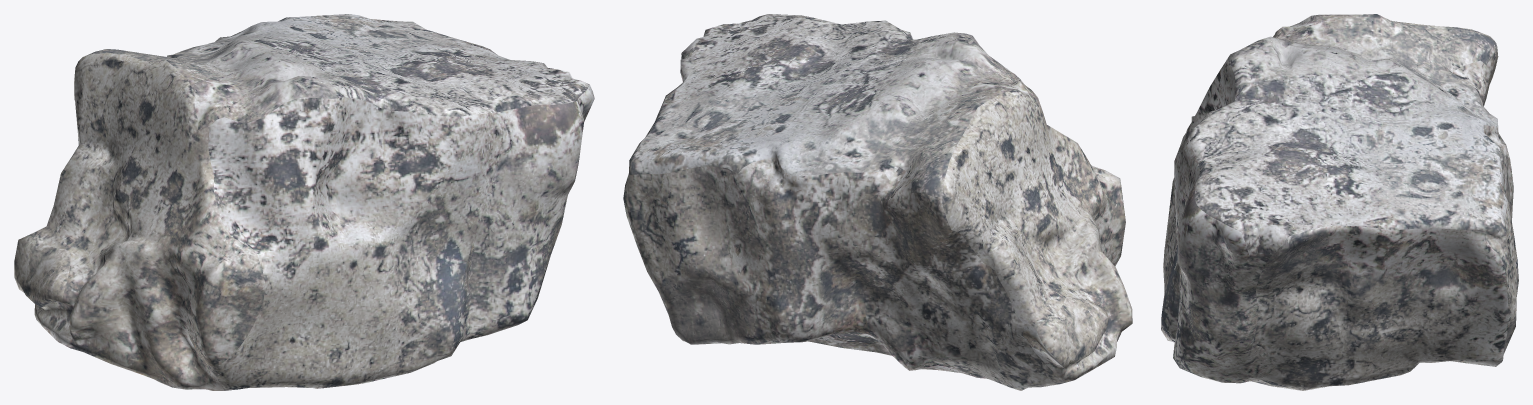
Rendered from SM_Small_Rock_A.fbx.
3 renders of one model, left to right at view 1: azimuth 30°, elevation 25°; view 2: azimuth 150°, elevation 25°; view 3: azimuth 270°, elevation 25°, orthographic. The views are drawn at different scales.
Visible parts, largest first — view 1: SM_Small_Rock_A_LOD0; view 2: SM_Small_Rock_A_LOD0; view 3: SM_Small_Rock_A_LOD0.
Part boxes in pixels (x1,y1,x2,y2): SM_Small_Rock_A_LOD0: (14,14,594,390); SM_Small_Rock_A_LOD0: (623,14,1132,390); SM_Small_Rock_A_LOD0: (1161,14,1518,390).
Size of the model in its own units: 168 by 114 by 94.35.
Materials: 1 (1 with a texture image).
